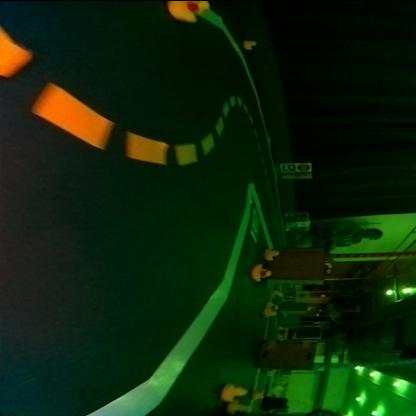Duckie: (168, 0, 210, 21), (222, 383, 248, 399), (252, 262, 272, 280), (266, 247, 280, 258), (244, 38, 258, 48), (266, 308, 277, 314)
QR code: (252, 207, 260, 240), (283, 162, 297, 170)
Stop sign: (300, 162, 312, 170)
